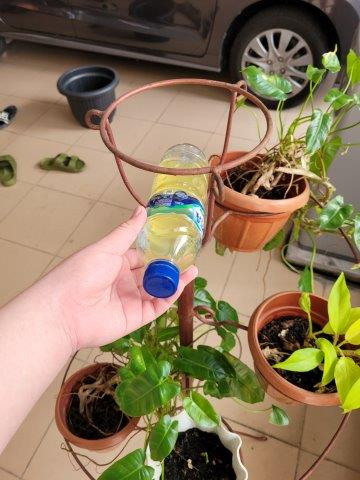botolplastik: (143, 145, 207, 293)
